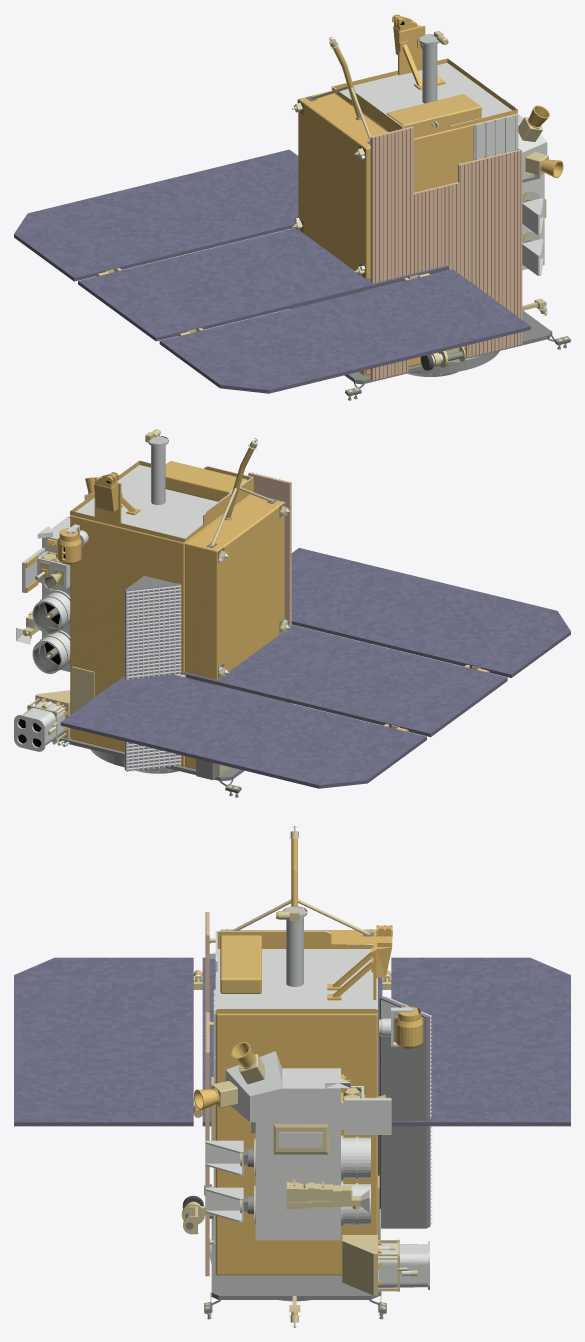
File: lunar_reconnaissance_orbiter.glb
The picture shows the model from 3 angles, top to bottom: view 1: azimuth 30°, elevation 25°; view 2: azimuth 150°, elevation 25°; view 3: azimuth 270°, elevation 25°; orthographic projection. The views are drawn at different scales.
Visible parts, largest first — view 1: Layer_0; view 2: Layer_0; view 3: Layer_0.
Boxes of the visible parts, left/top/right/bottom form: Layer_0: left=14, top=14, right=570, bottom=400; Layer_0: left=14, top=429, right=570, bottom=797; Layer_0: left=14, top=826, right=570, bottom=1327.
Bounding box in the file's own units: 33.28 × 26.29 × 32.26.
4 materials, 4 textured.
